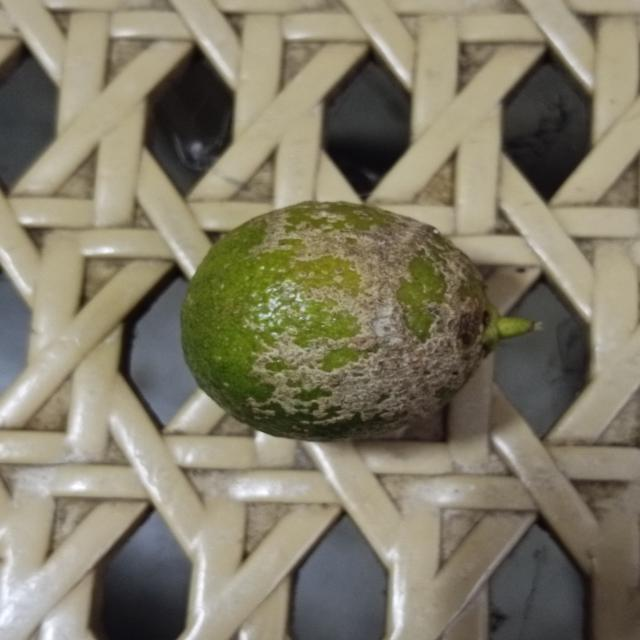thrips: (171, 200, 493, 444)
